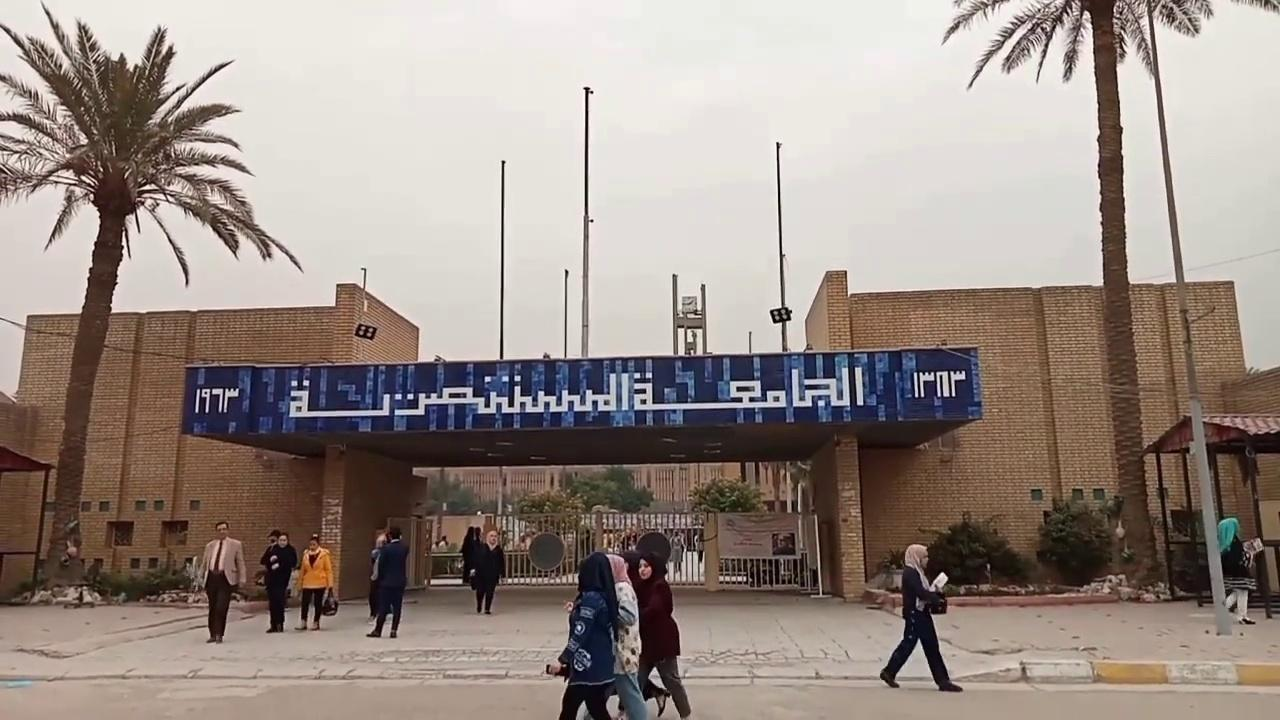person: (616, 536, 692, 718), (879, 543, 963, 691), (198, 521, 246, 643), (365, 525, 409, 638), (1217, 516, 1258, 624), (259, 531, 298, 632), (294, 534, 334, 630), (469, 529, 505, 614), (365, 532, 388, 623), (460, 525, 480, 585)
tree: (939, 0, 1277, 591), (0, 2, 303, 591), (686, 475, 767, 590), (916, 508, 1026, 587), (1034, 491, 1125, 586), (568, 465, 654, 514), (686, 475, 766, 515)
